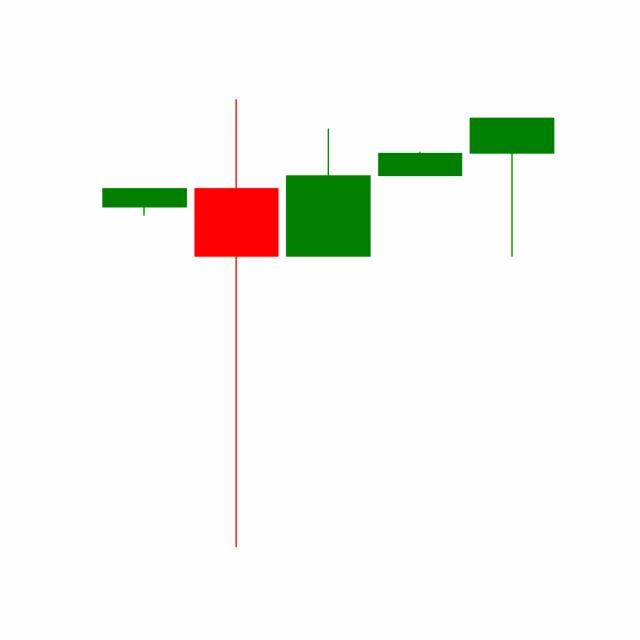Hanging Man: (464, 115, 558, 258)
